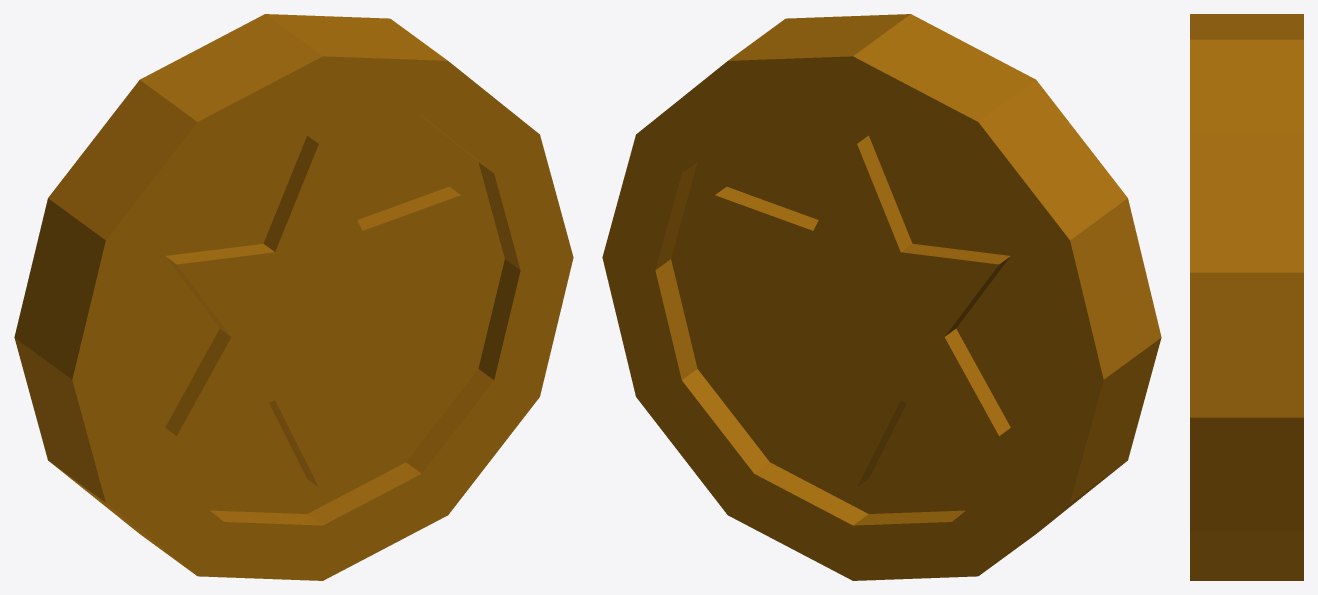
File: CoinGold.obj
3 views of the same model, side by side, from view 1: azimuth 30°, elevation 25°; view 2: azimuth 150°, elevation 25°; view 3: azimuth 270°, elevation 25° (orthographic).
Parts seen in each view (by area): view 1: coin; view 2: coin; view 3: coin.
Part boxes in pixels (x1,y1,x2,y2): coin: (14, 14, 573, 580); coin: (602, 14, 1161, 580); coin: (1190, 14, 1303, 580).
Bounding box in the file's own units: 2 × 2 × 0.4.
